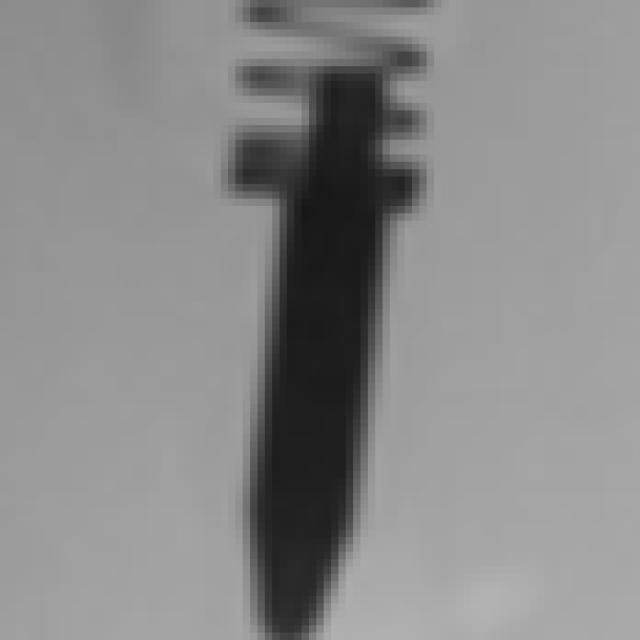GUN: (226, 69, 382, 590)
